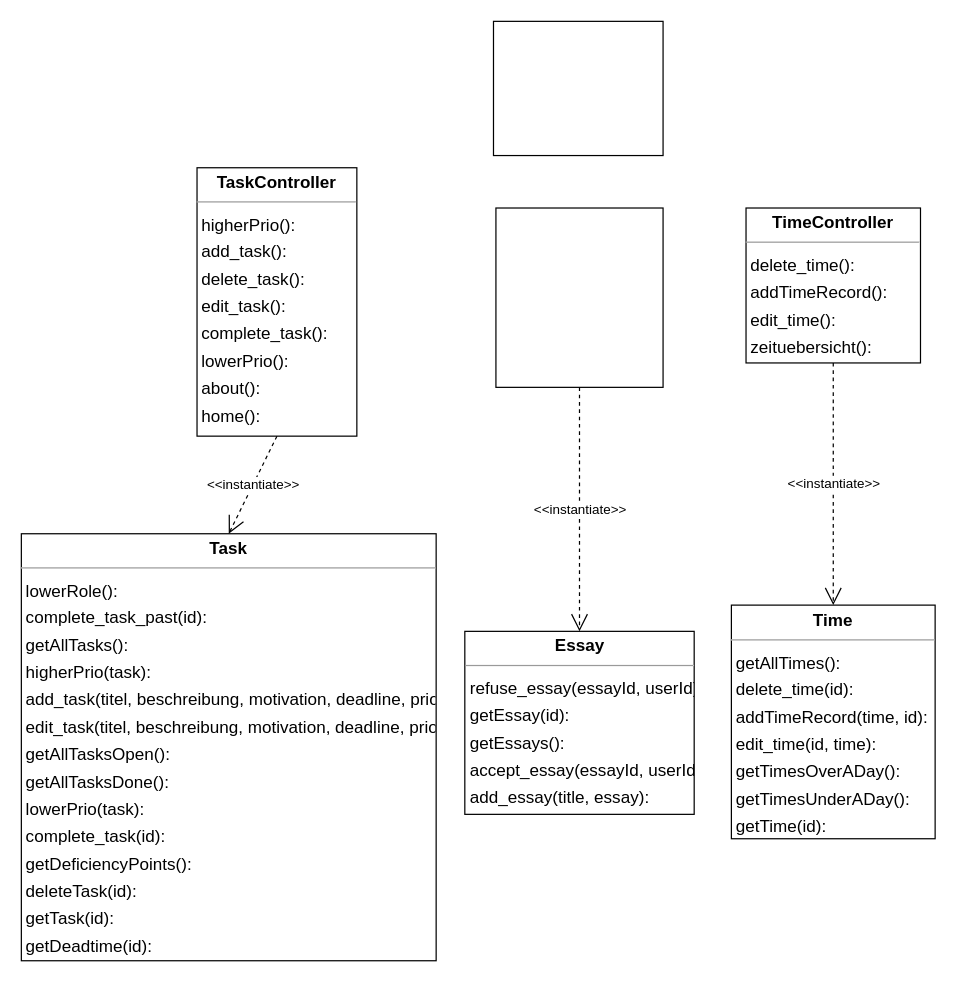
The diagram is 956 pixels wide and 982 high, and some of its shapes have lost their labels. Here are the shapes that lost their labels. From the top down, the centre of each, then its label:
[577,88]: LoginController register(): logout(): login():
[579,297]: EssayController essay(): admin(): refuse(): accept(): add_essay():
